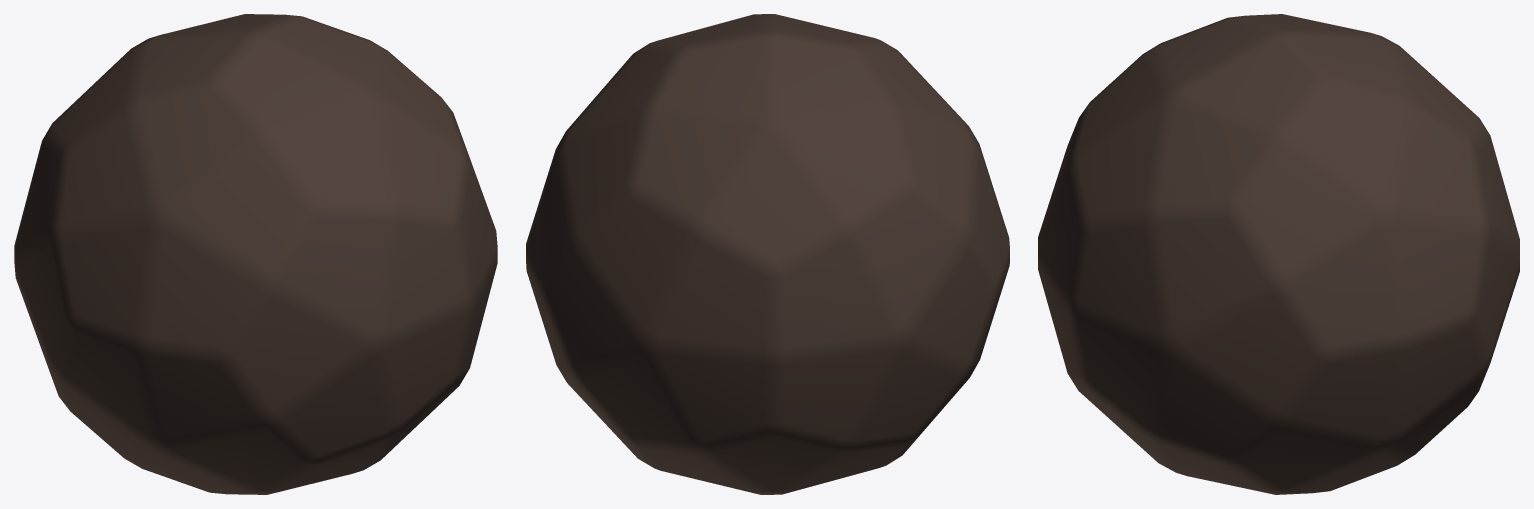
Rendered from Infermon_projectile.fbx.
3 views of the same model, side by side, from view 1: azimuth 30°, elevation 25°; view 2: azimuth 150°, elevation 25°; view 3: azimuth 270°, elevation 25° (orthographic).
Visible parts, largest first — view 1: pPlatonic1; view 2: pPlatonic1; view 3: pPlatonic1.
Part boxes in pixels (bbox=[...]): pPlatonic1: bbox=[14, 14, 497, 494]; pPlatonic1: bbox=[526, 14, 1009, 494]; pPlatonic1: bbox=[1038, 14, 1519, 494].
Bounding box in the file's own units: 1.95 × 1.96 × 1.95.
